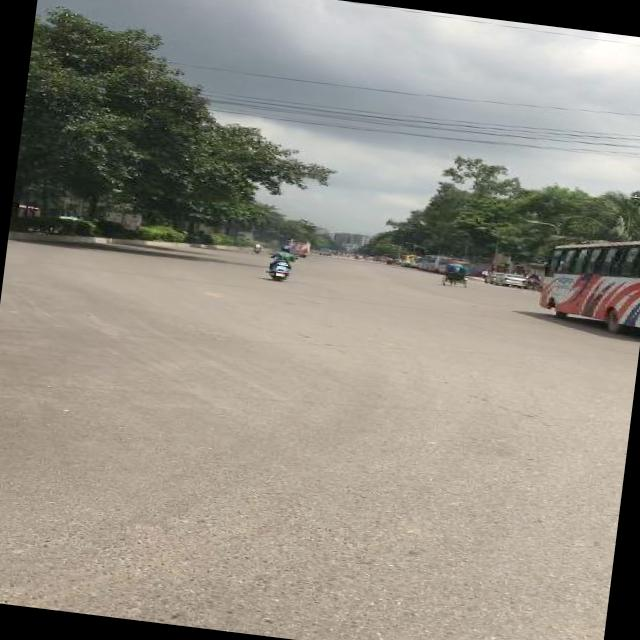bus: (538, 228, 639, 336), (288, 238, 314, 258), (426, 255, 444, 272), (400, 254, 416, 268)
car: (497, 272, 526, 288)
motorcycle: (264, 243, 302, 283), (442, 261, 472, 288), (528, 272, 542, 290), (254, 242, 266, 254), (388, 257, 398, 266)
